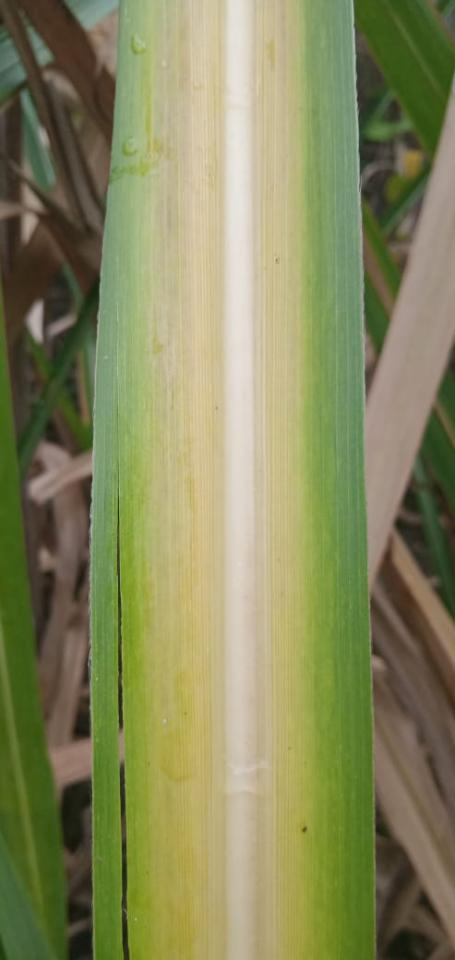Yellow: (124, 0, 340, 959)
